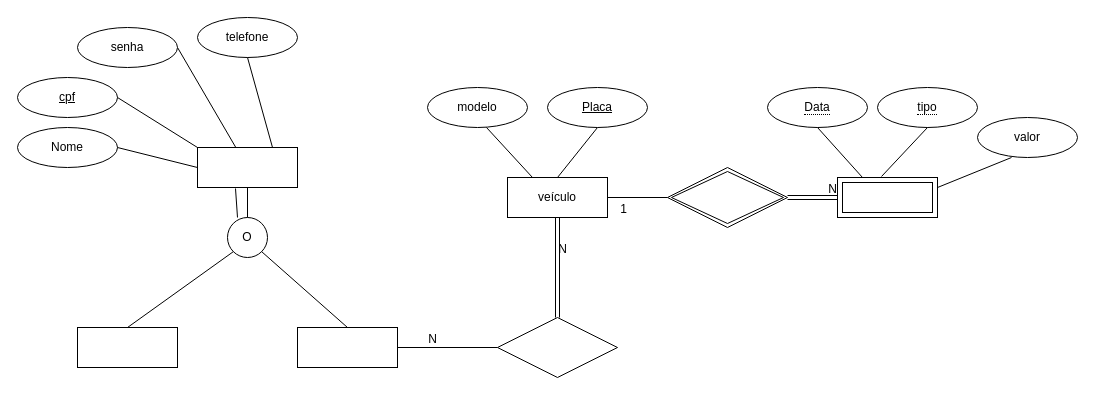
Image size: 1095x395. Some labels were removed from this diagram. Each missing label, with the centre of its shape:
"administrador" belongs at point (127, 347).
"despesas" belongs at point (887, 197).
"Possui" belongs at point (557, 347).
"Proprietário" belongs at point (347, 347).
"tem" belongs at point (727, 197).
"usuários" belongs at point (247, 167).
